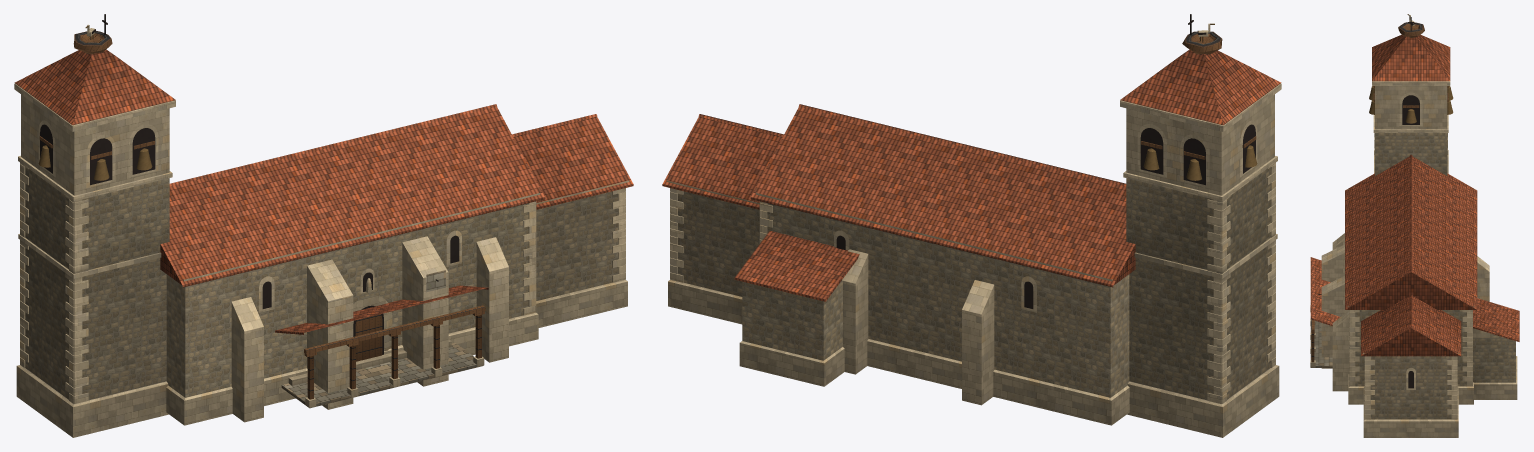
Rendered from san_andres.glb.
3 views of the same model, side by side, from view 1: azimuth 30°, elevation 25°; view 2: azimuth 150°, elevation 25°; view 3: azimuth 270°, elevation 25° (orthographic). The views are drawn at different scales.
Visible parts, largest first — view 1: san_andres; view 2: san_andres; view 3: san_andres.
Part boxes in pixels (x1,y1,x2,y2): san_andres: (14, 14, 633, 437); san_andres: (662, 14, 1281, 437); san_andres: (1310, 14, 1519, 437).
Size of the model in its own units: 39.77 by 26.5 by 19.2.
Materials: 7 (7 with a texture image).
